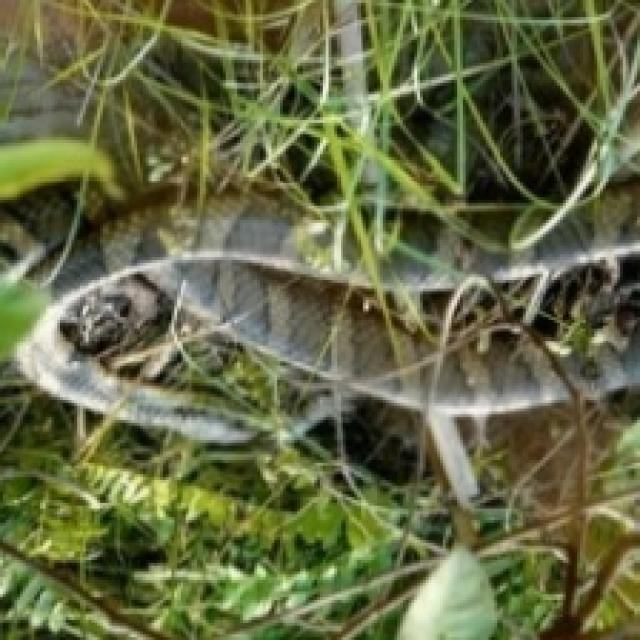king cobra: (14, 240, 637, 511)
